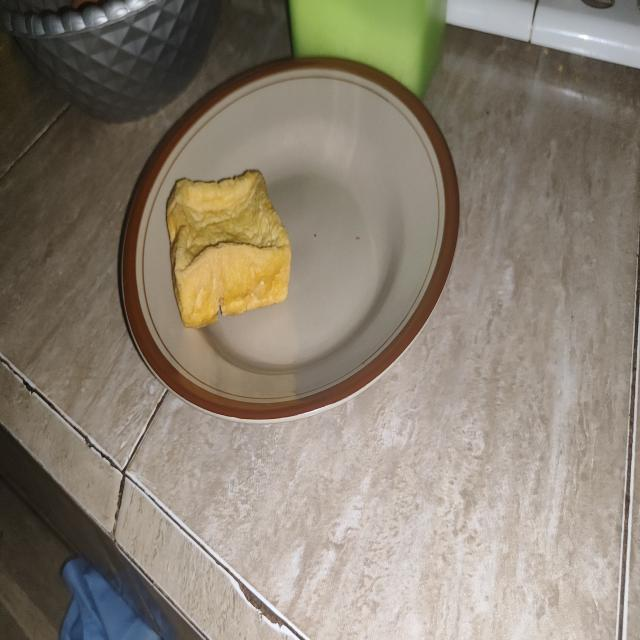tahu_goreng: (167, 170, 291, 328)
